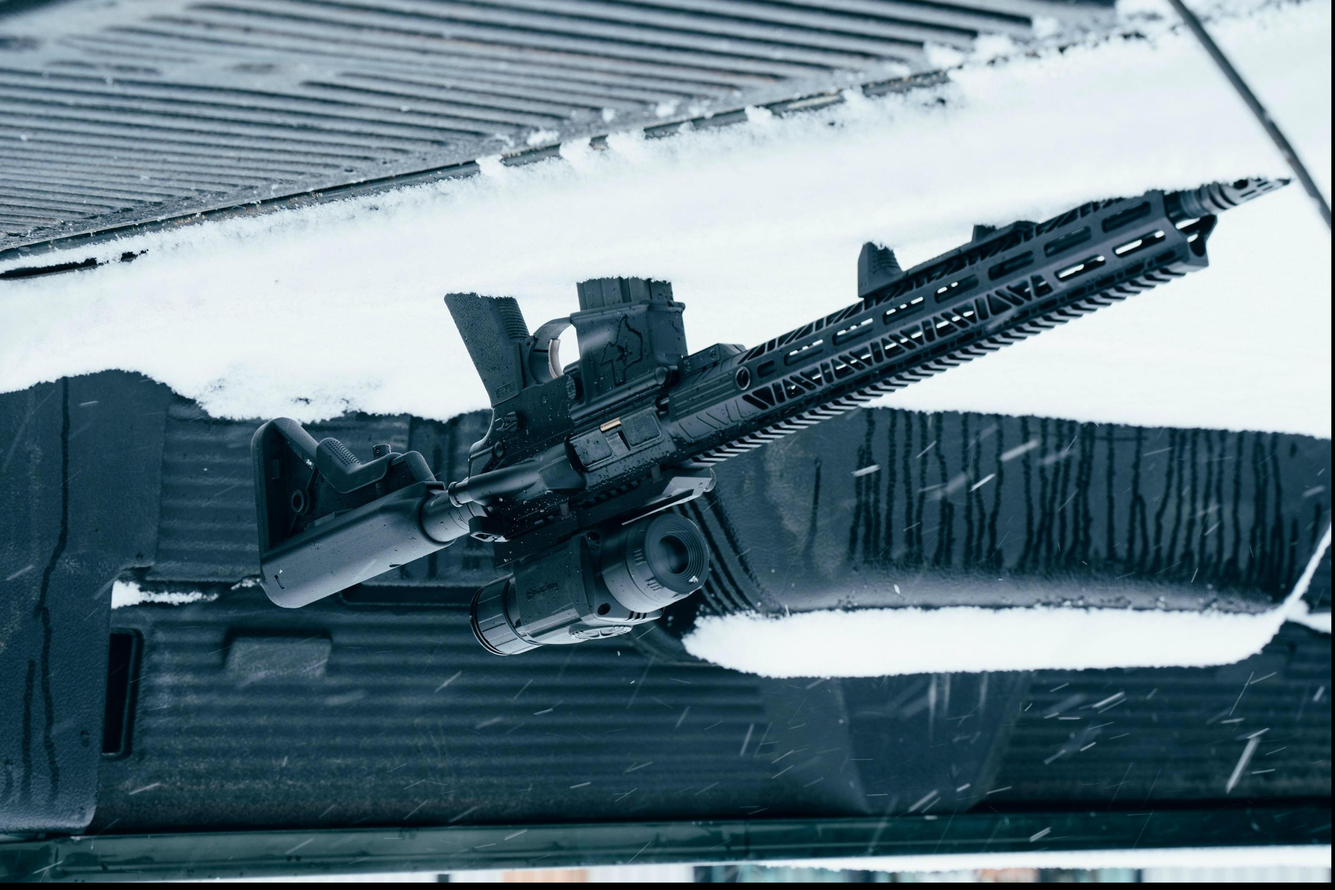larga: (254, 176, 1290, 659)
